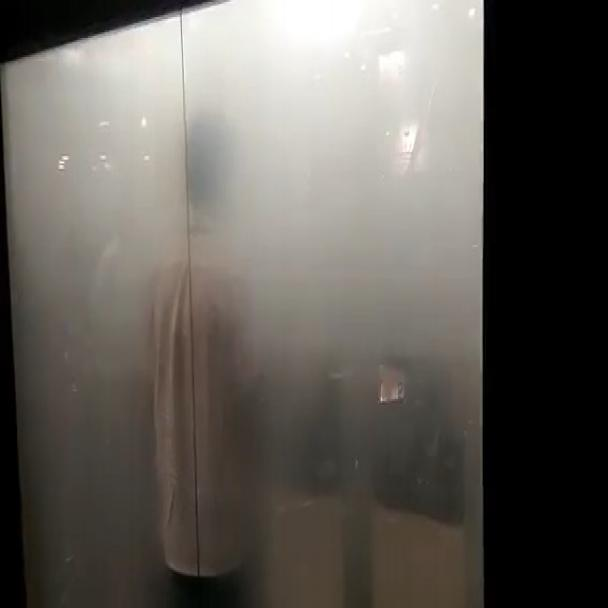smoke: (9, 50, 474, 560)
